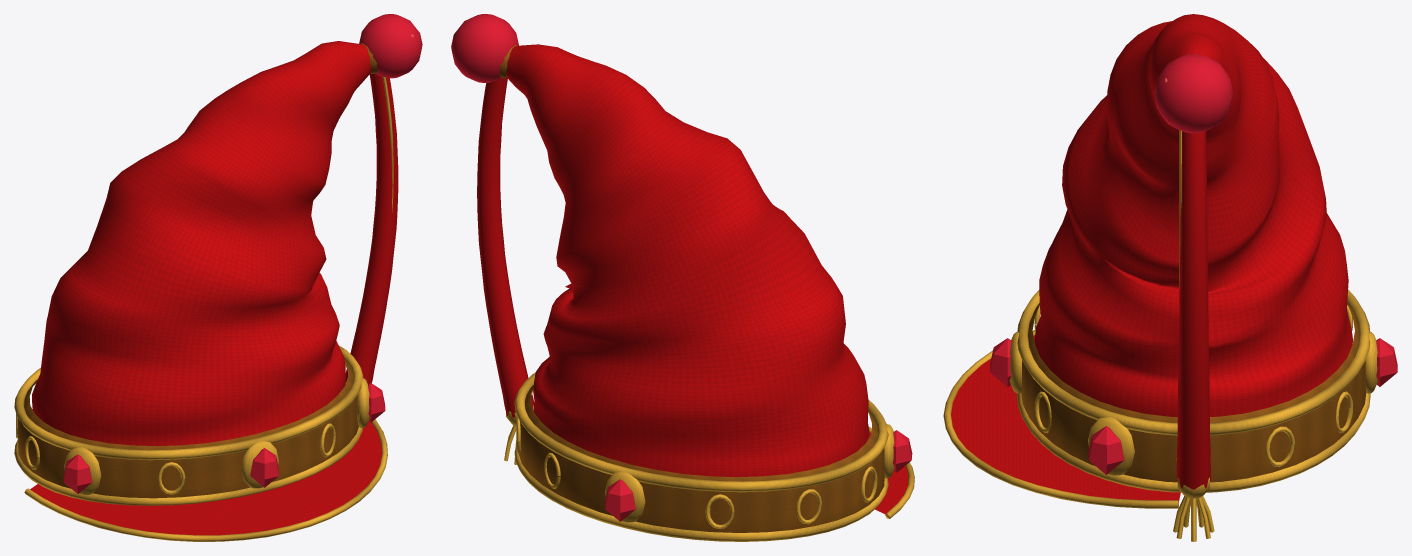
The model's file is minish_cap.glb.
3 views of the same model, side by side, from view 1: azimuth 30°, elevation 25°; view 2: azimuth 150°, elevation 25°; view 3: azimuth 270°, elevation 25° (orthographic). The views are drawn at different scales.
Visible parts, largest first — view 1: Soft bent crimson crown, Wide gold brocade band, Crimson front brim, Rolled gold brim edging (×2), Red hanging cap streamer, Gold front brim piping, Crimson orb at cap tip, Brim red jewel (×3), Raised gold ruby setting (×3); view 2: Soft bent crimson crown, Wide gold brocade band, Rolled gold brim edging (×2), Red hanging cap streamer, Crimson orb at cap tip, Brim red jewel (×2), Crimson front brim, Raised gold ruby setting; view 3: Soft bent crimson crown, Wide gold brocade band, Red hanging cap streamer, Crimson front brim, Rolled gold brim edging (×2), Crimson orb at cap tip, Gold front brim piping, Brim red jewel (×3), Raised gold ruby setting (×3).
Boxes of the visible parts, <box> form: Soft bent crimson crown: <box>32,41,371,446</box>; Wide gold brocade band: <box>18,359,358,498</box>; Crimson front brim: <box>30,421,381,535</box>; Rolled gold brim edging (×2): <box>14,345,363,505</box>; Red hanging cap streamer: <box>345,74,398,384</box>; Gold front brim piping: <box>24,419,387,541</box>; Crimson orb at cap tip: <box>359,14,422,78</box>; Brim red jewel (×3): <box>63,383,385,493</box>; Raised gold ruby setting (×3): <box>64,378,369,494</box>; Soft bent crimson crown: <box>506,44,869,477</box>; Wide gold brocade band: <box>518,385,884,532</box>; Rolled gold brim edging (×2): <box>514,372,888,541</box>; Red hanging cap streamer: <box>477,78,534,417</box>; Crimson orb at cap tip: <box>451,14,518,82</box>; Brim red jewel (×2): <box>605,430,912,521</box>; Crimson front brim: <box>869,433,908,514</box>; Raised gold ruby setting: <box>605,471,645,522</box>; Soft bent crimson crown: <box>1034,14,1352,416</box>; Wide gold brocade band: <box>1021,302,1366,482</box>; Red hanging cap streamer: <box>1176,131,1210,489</box>; Crimson front brim: <box>951,335,1180,502</box>; Rolled gold brim edging (×2): <box>1016,289,1370,492</box>; Crimson orb at cap tip: <box>1154,54,1233,133</box>; Gold front brim piping: <box>943,330,1178,508</box>; Brim red jewel (×3): <box>990,338,1397,474</box>; Raised gold ruby setting (×3): <box>1009,332,1377,475</box>.
Bounding box in the file's own units: 94.2 × 90.67 × 75.22.
6 materials, 4 textured.
